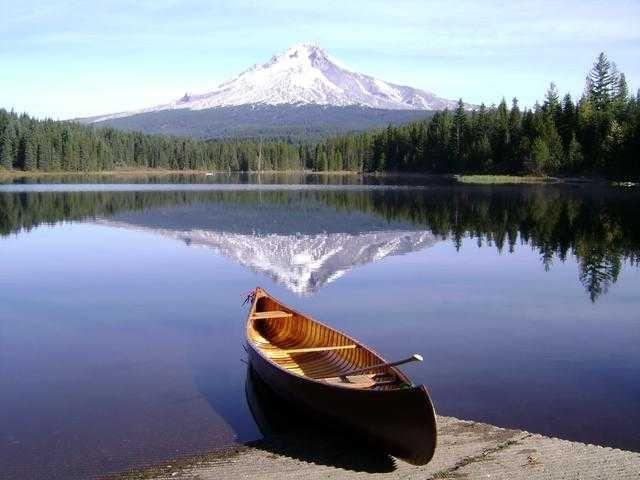kayak: (240, 287, 438, 467)
